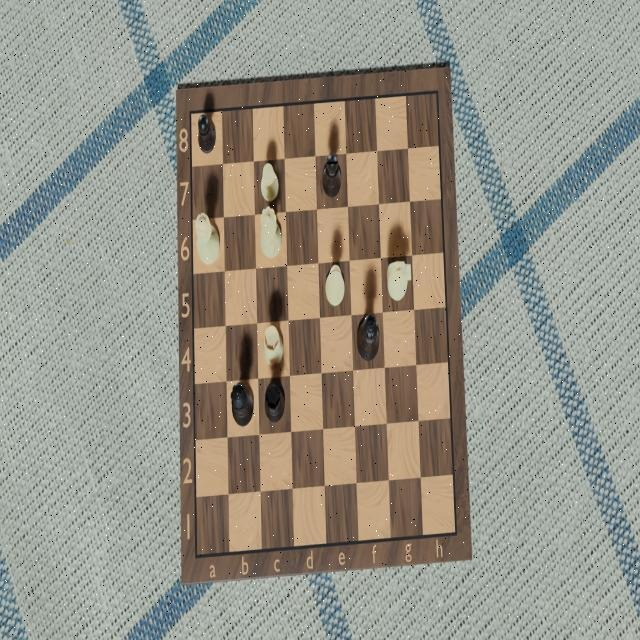black-bishop: (316, 152, 348, 203)
black-king: (357, 311, 383, 364)
black-pawn: (193, 111, 218, 157)
black-queen: (226, 378, 258, 434)
black-rook: (256, 377, 287, 428)
white-bishop: (319, 260, 349, 315)
white-king: (193, 208, 223, 271)
white-knight: (383, 259, 413, 305)
white-pawn: (256, 162, 284, 202)
white-queen: (255, 203, 287, 261)
white-rook: (259, 320, 289, 372)
